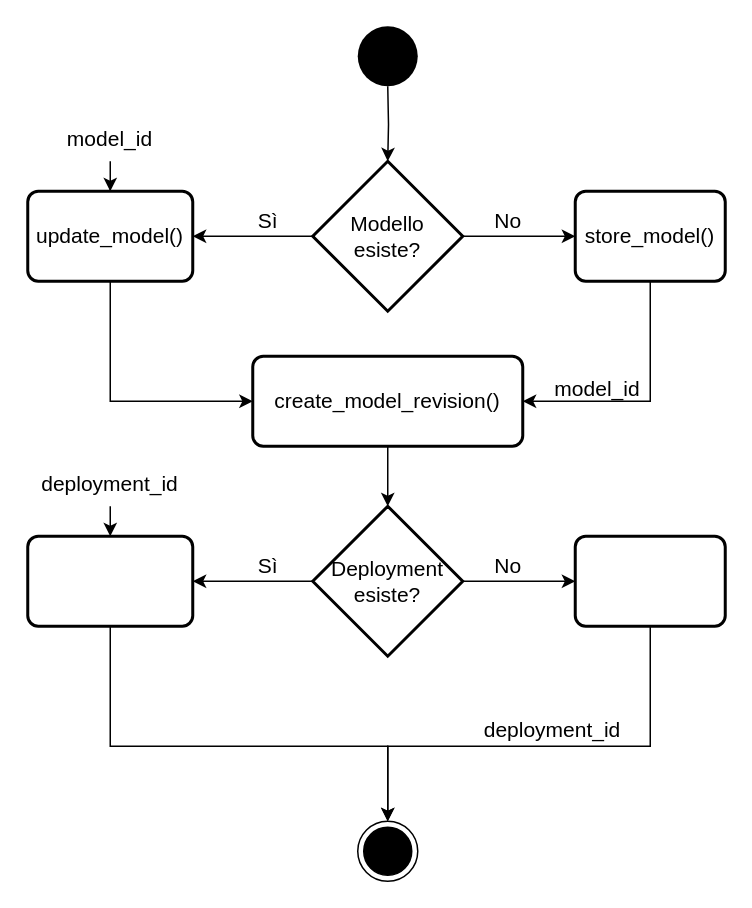
The diagram is 752 pixels wide and 908 high, and some of its shapes have lost their labels. Each missing label, with the centre of its shape:
"create()" goes at (x=649, y=580).
"update()" goes at (x=110, y=580).
